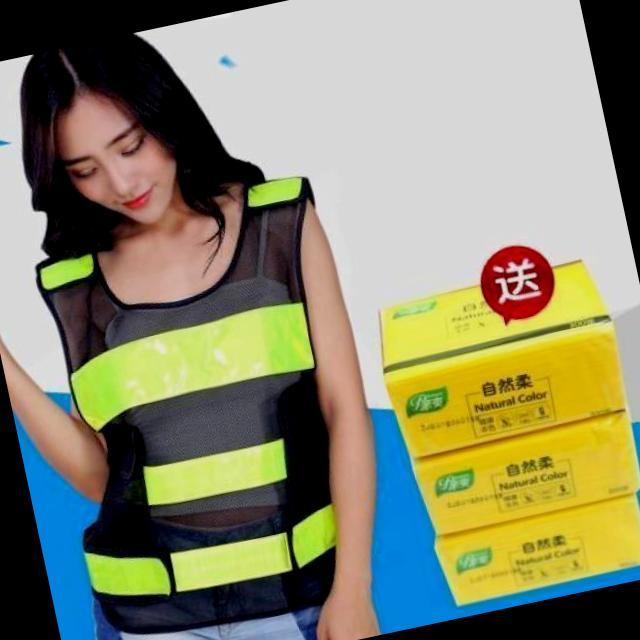vest: (24, 181, 385, 628)
